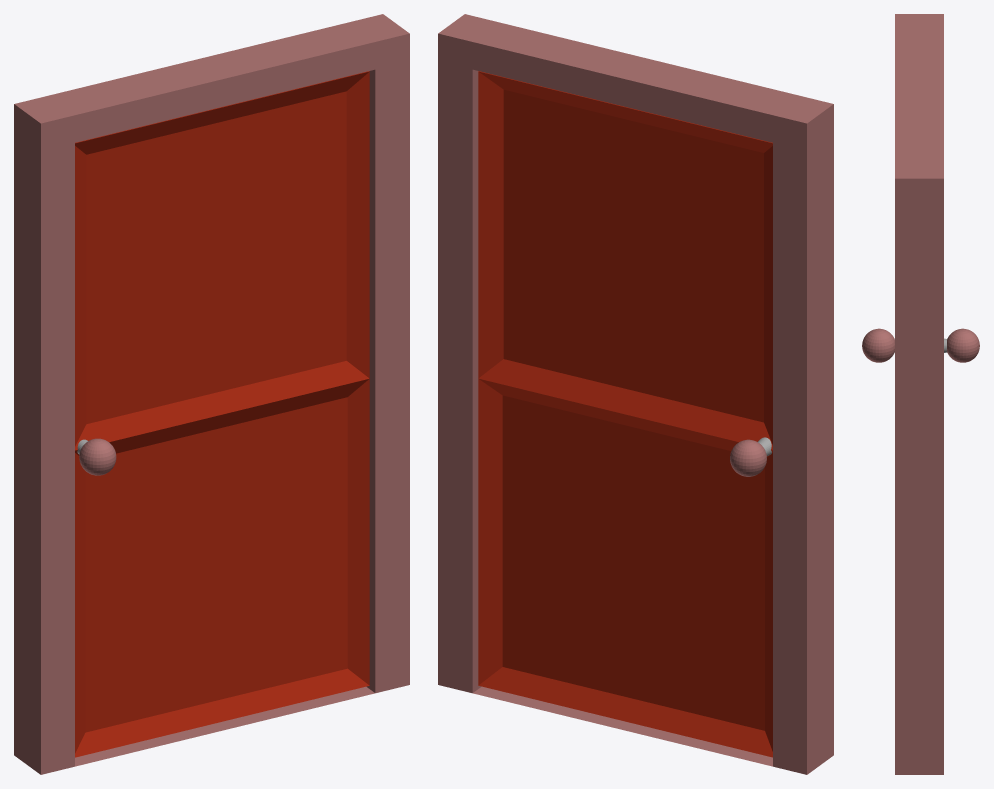
File: Puerta.fbx
3 views of the same model, side by side, from view 1: azimuth 30°, elevation 25°; view 2: azimuth 150°, elevation 25°; view 3: azimuth 270°, elevation 25° (orthographic). The views are drawn at different scales.
Parts seen in each view (by area): view 1: Puerta, Marco_Puerta; view 2: Puerta, Marco_Puerta; view 3: Marco_Puerta, Puerta.
Boxes of the visible parts, bbox=[...] form: Puerta: bbox=[75, 71, 369, 757]; Marco_Puerta: bbox=[14, 14, 409, 774]; Puerta: bbox=[478, 71, 772, 757]; Marco_Puerta: bbox=[438, 14, 833, 774]; Marco_Puerta: bbox=[895, 14, 943, 774]; Puerta: bbox=[862, 328, 979, 362].
Size of the model in its own units: 562 by 948 by 170.
